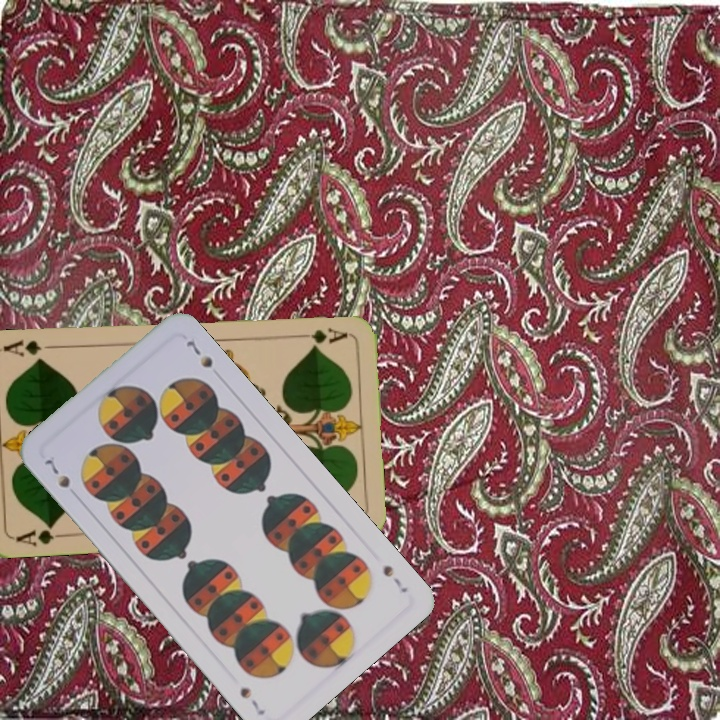GA: (12, 520, 71, 548), (291, 324, 351, 348)
S7: (40, 455, 73, 491), (378, 561, 411, 596)
